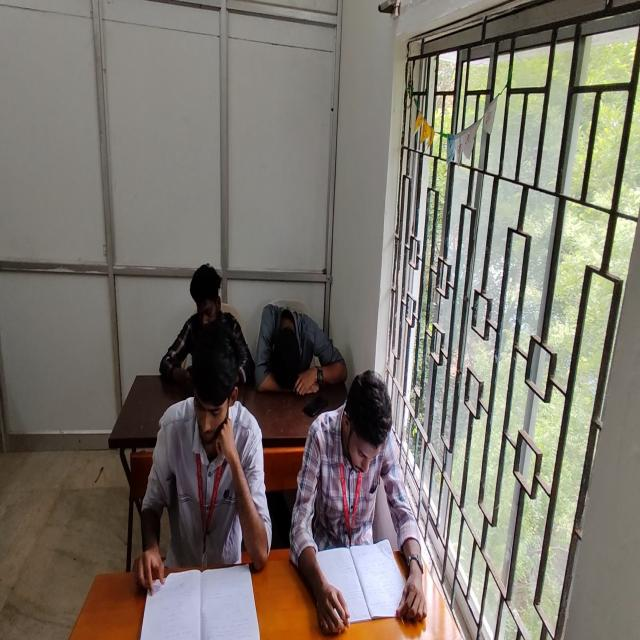reading: (133, 318, 273, 594), (309, 371, 431, 638)
sleeping: (256, 303, 345, 397)
using_mobile: (159, 263, 254, 391)
